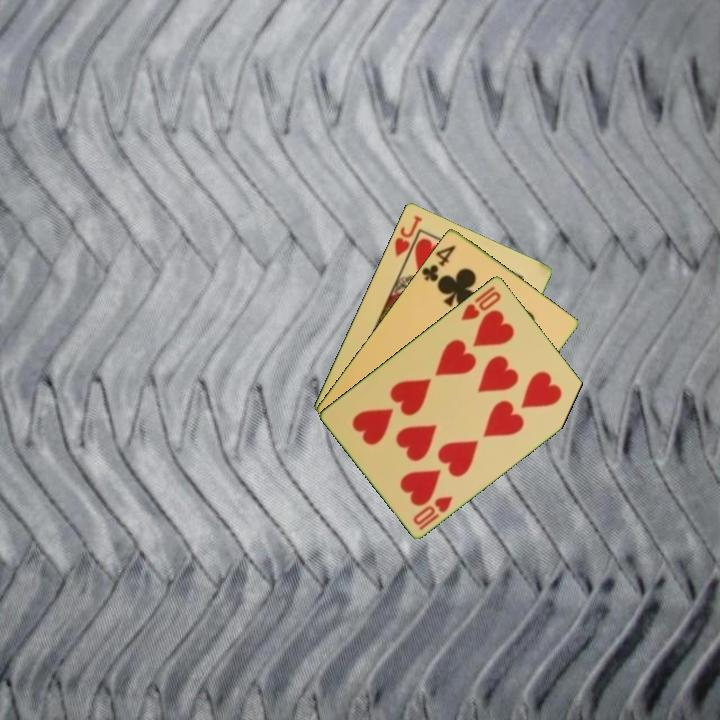10h: (409, 492, 456, 533), (458, 282, 504, 323)
4c: (418, 241, 459, 284)
Jh: (390, 211, 425, 260)
